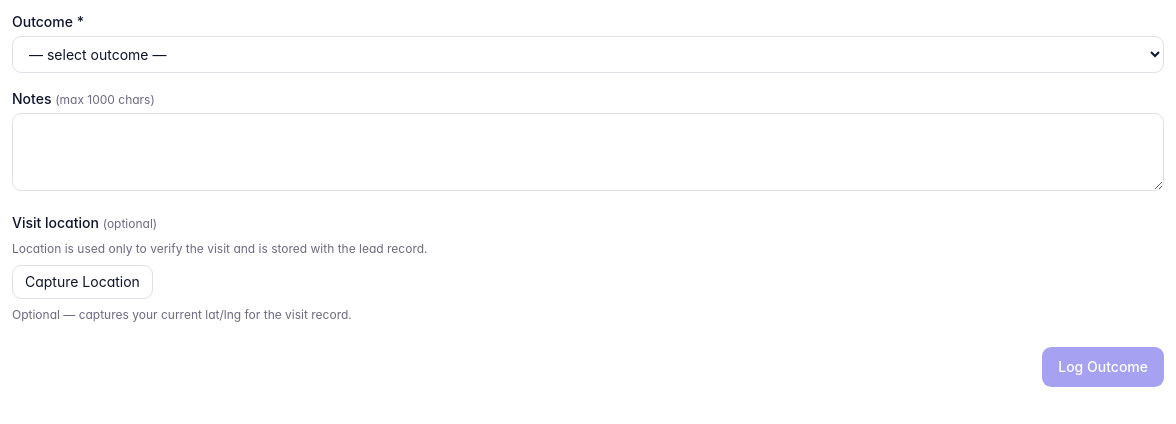
DispositionForm › UI-06: shows inline error when API returns VALIDATION_ERROR with fields
This screenshot has width=1176, height=424.
Select "Connected" in the dropdown at (588, 54), box [12, 36, 1164, 73]
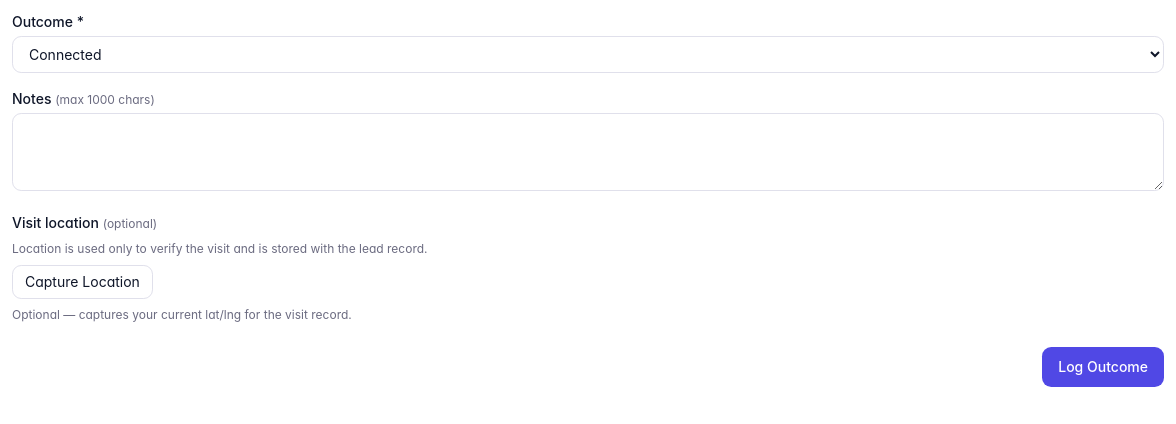
Click the button "Log Outcome" at (1103, 367), box [1042, 347, 1164, 387]
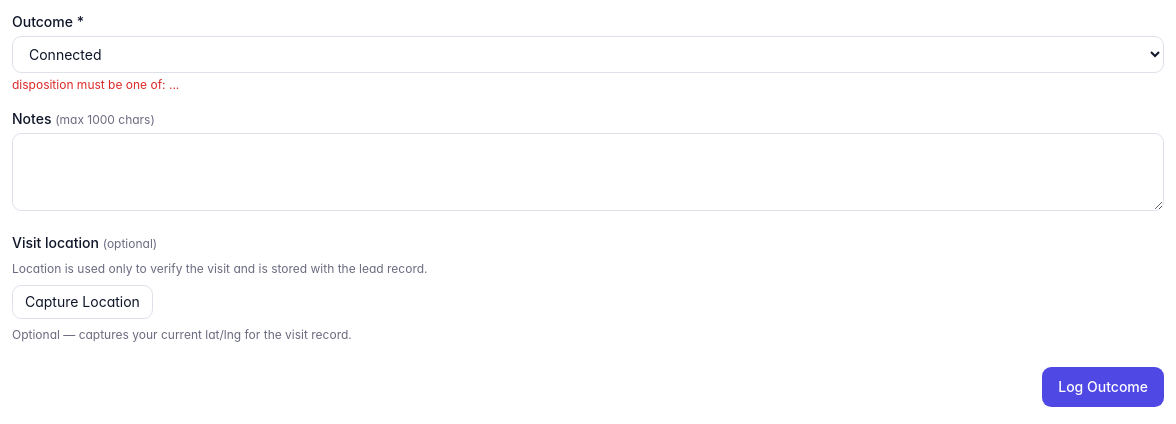
Now the message "disposition must be one of: ..." is shown, box [12, 77, 179, 92]
